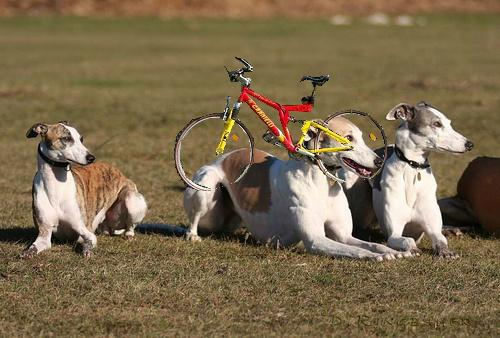tampered: (175, 58, 387, 191)
